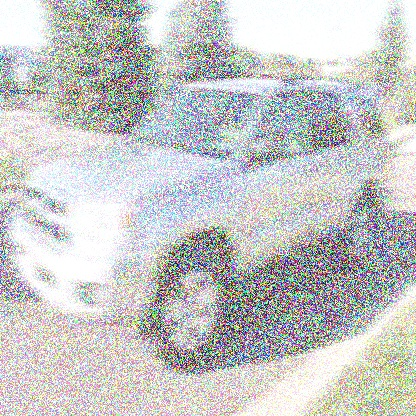Vehicle: (6, 71, 396, 367)
